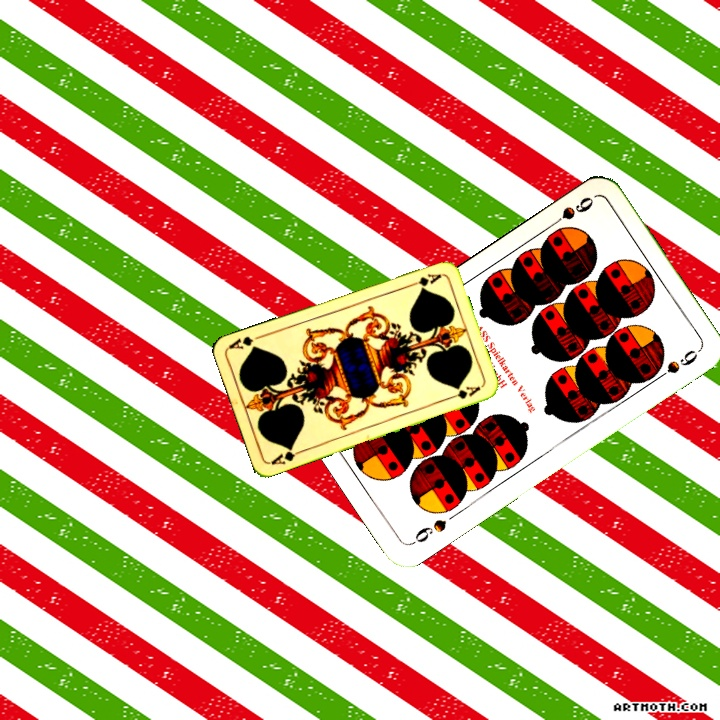GA: (267, 443, 306, 467), (405, 269, 444, 290)
S9: (544, 192, 597, 231), (407, 514, 450, 548)
